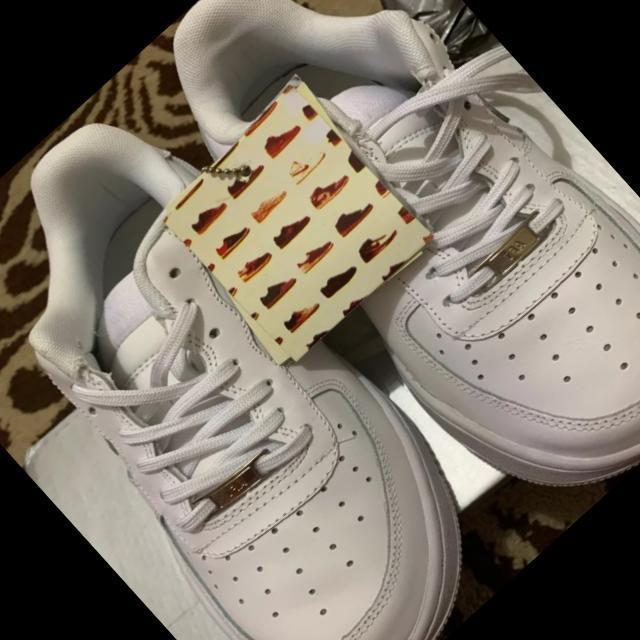nike fake air force: (0, 84, 541, 640), (116, 0, 640, 550)
